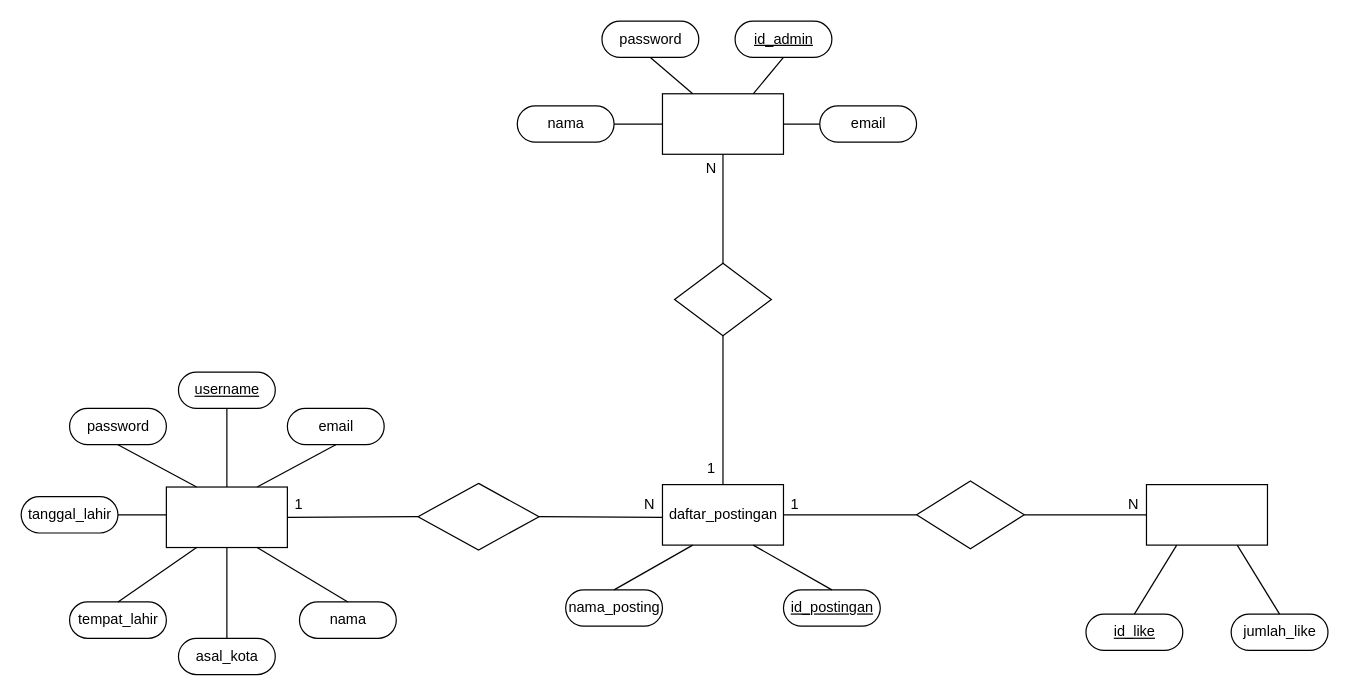
Some shapes in this 1349 by 696 pixel diagram are drawn without their labels. The shapes that lost their labels are listed below. From the top down, each one's centre as x and y in pixels, then its label:
the point at 722,123: admin
the point at 722,299: Memantau
the point at 226,517: pengguna
the point at 478,516: Memposting
the point at 969,514: Menampung
the point at 1206,514: suka
